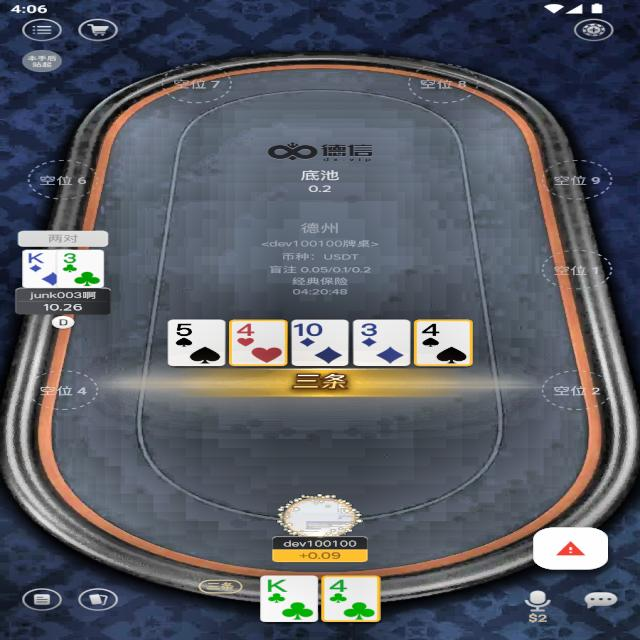10f: (292, 321, 327, 339)
10m: (264, 578, 290, 593)
3f: (358, 320, 381, 338)
3m: (59, 251, 79, 264)
4h: (235, 321, 259, 337)
4m: (327, 578, 351, 594)
4s: (419, 321, 443, 338)
5s: (172, 321, 198, 338)
Kf: (26, 250, 48, 264)
